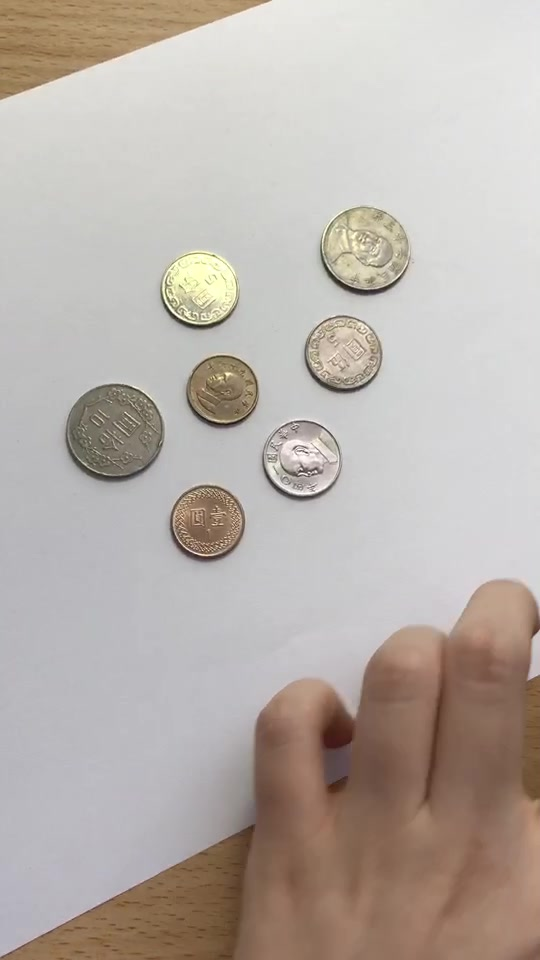1 dallar: (165, 478, 250, 561), (181, 350, 265, 425)
10 dallar: (59, 377, 173, 488), (304, 192, 418, 303)
5 dallar: (156, 247, 245, 335), (296, 306, 385, 394), (259, 418, 348, 506)
